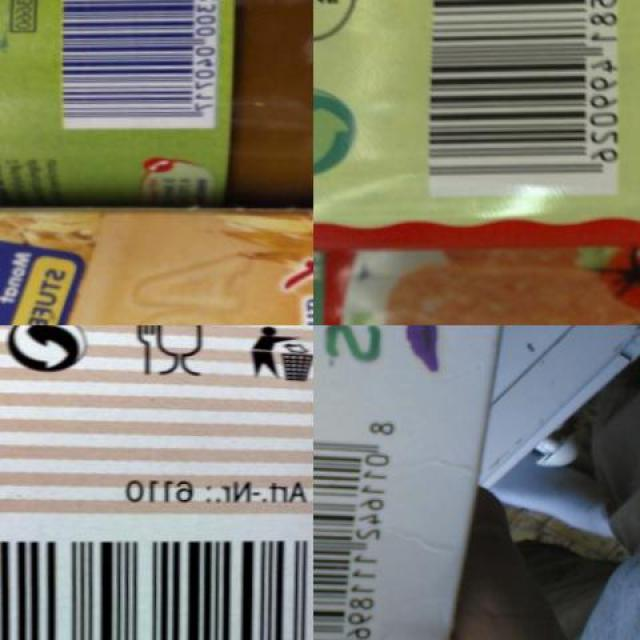Barcode: (425, 0, 624, 196), (0, 521, 313, 639), (314, 400, 414, 640), (57, 0, 220, 131)
